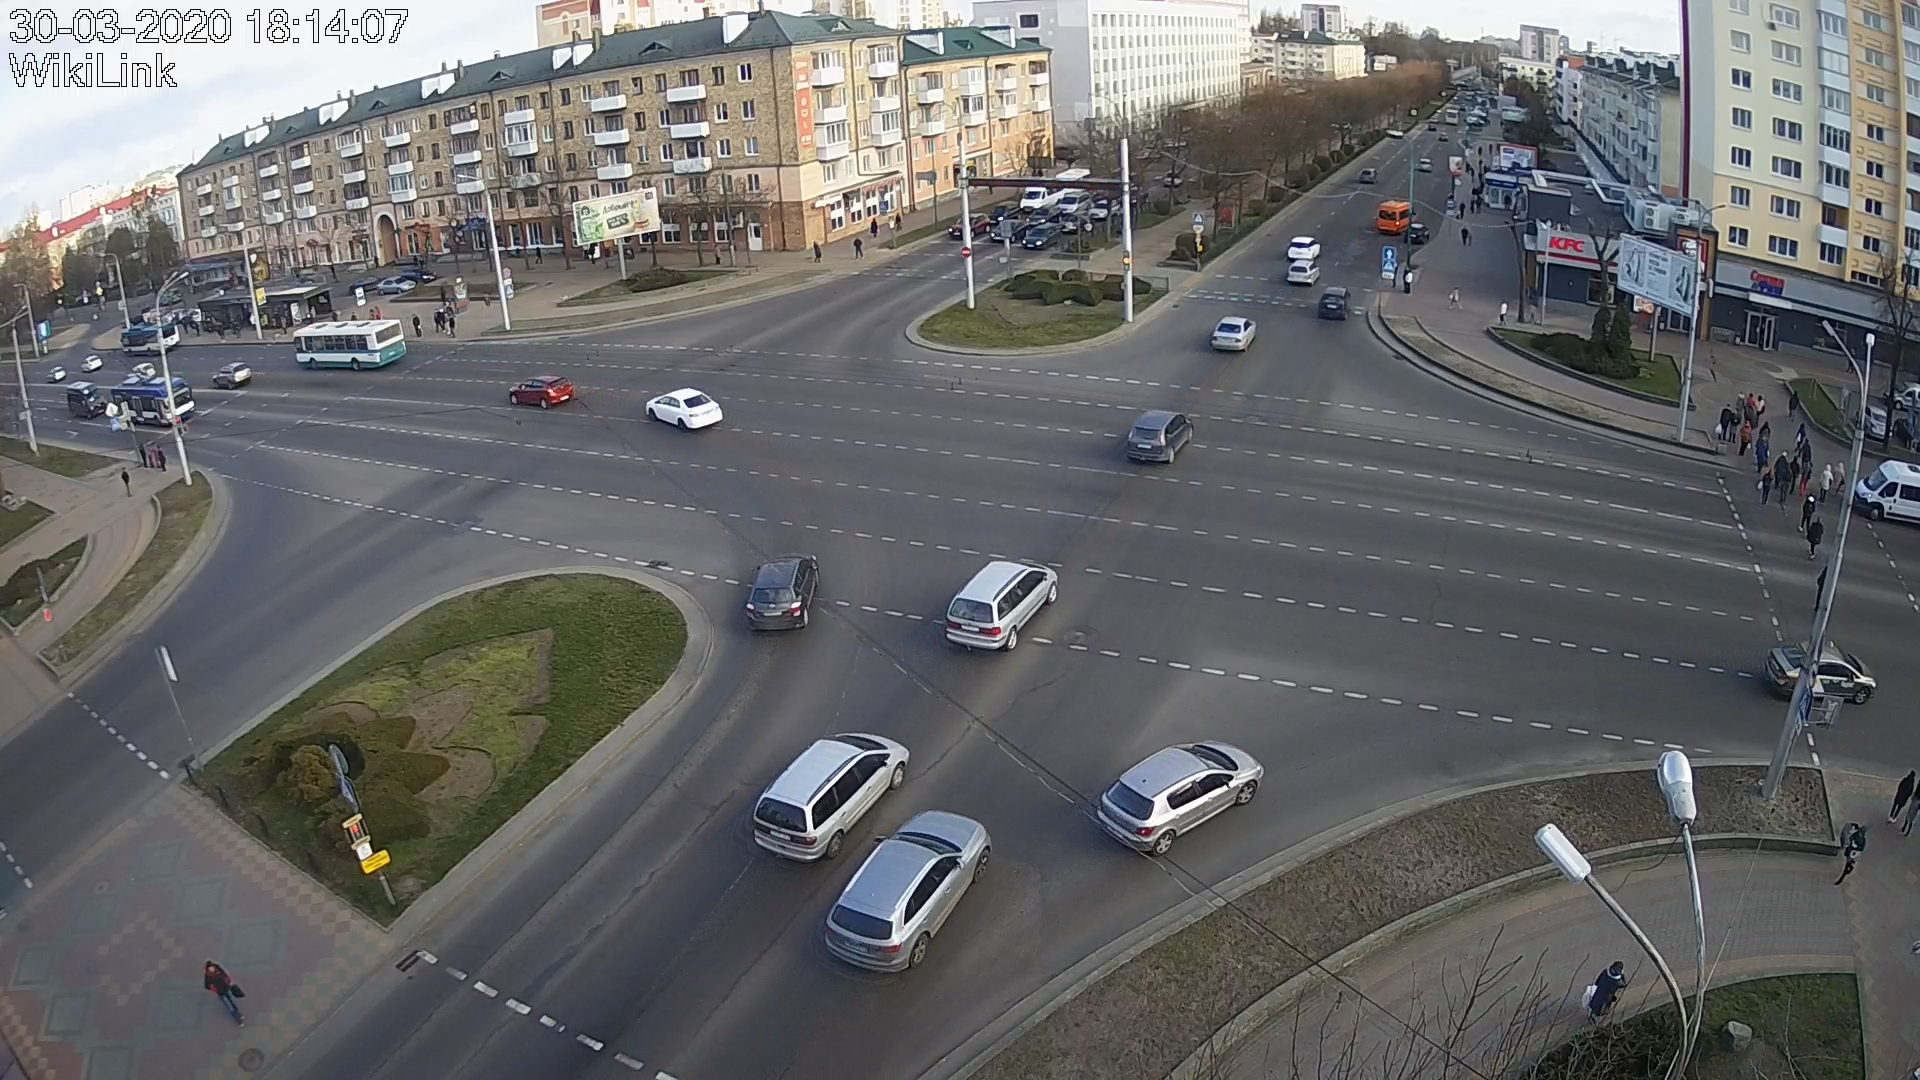bus: (293, 319, 407, 371), (111, 375, 196, 429), (120, 323, 179, 357)
car: (823, 808, 993, 973), (753, 732, 910, 862), (1097, 741, 1265, 857), (945, 560, 1058, 651), (1767, 640, 1876, 705), (746, 553, 820, 632), (645, 386, 724, 433), (1127, 411, 1195, 464), (508, 375, 574, 409), (1211, 316, 1257, 352), (67, 380, 107, 419), (1317, 286, 1352, 320), (948, 214, 990, 241), (1022, 222, 1062, 251), (214, 363, 251, 389), (1286, 260, 1321, 285), (1287, 235, 1323, 260), (992, 219, 1030, 241)
